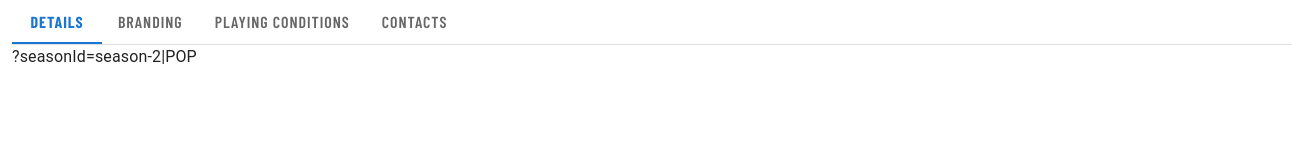
Test: LeagueEditTabs › switches with ?tab=, replacing the history entry and keeping the other parameters
Click the tab "Branding".
click(150, 22)  # box [118, 12, 183, 31]
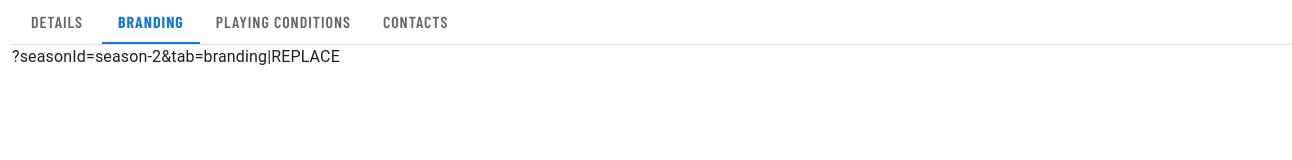
Check: the text with test id "where" reads "?seasonId=season-2&tab=branding|REPLACE", box [12, 47, 340, 66]
